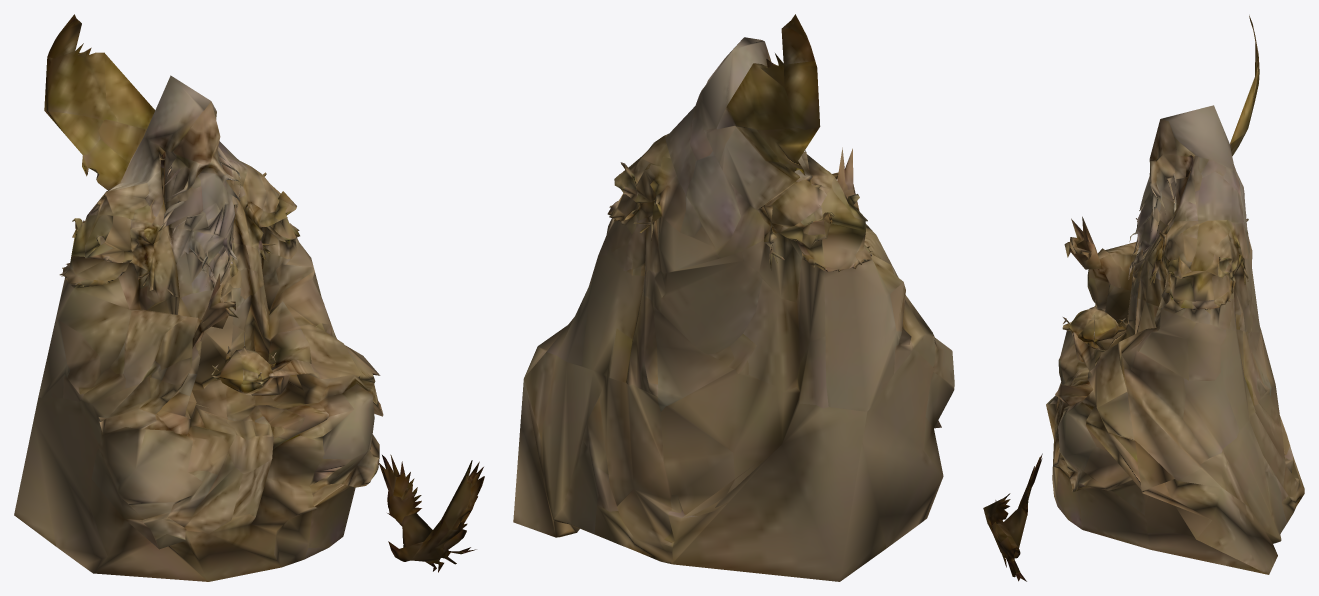
Rendered from npc_sanqing_taiqing.glb.
3 renders of one model, left to right at view 1: azimuth 30°, elevation 25°; view 2: azimuth 150°, elevation 25°; view 3: azimuth 270°, elevation 25°, orthographic. The views are drawn at different scales.
Visible parts, largest first — view 1: tripo_node_11513de7-2468-4afc-8d96-fb69f4a4ea9b; view 2: tripo_node_11513de7-2468-4afc-8d96-fb69f4a4ea9b; view 3: tripo_node_11513de7-2468-4afc-8d96-fb69f4a4ea9b.
Part boxes in pixels (x1,y1,x2,y2): tripo_node_11513de7-2468-4afc-8d96-fb69f4a4ea9b: (14,14,484,581); tripo_node_11513de7-2468-4afc-8d96-fb69f4a4ea9b: (513,14,954,581); tripo_node_11513de7-2468-4afc-8d96-fb69f4a4ea9b: (983,15,1304,581).
Size of the model in its own units: 0.6557 by 0.9829 by 0.6273.
1 material, 1 textured.
